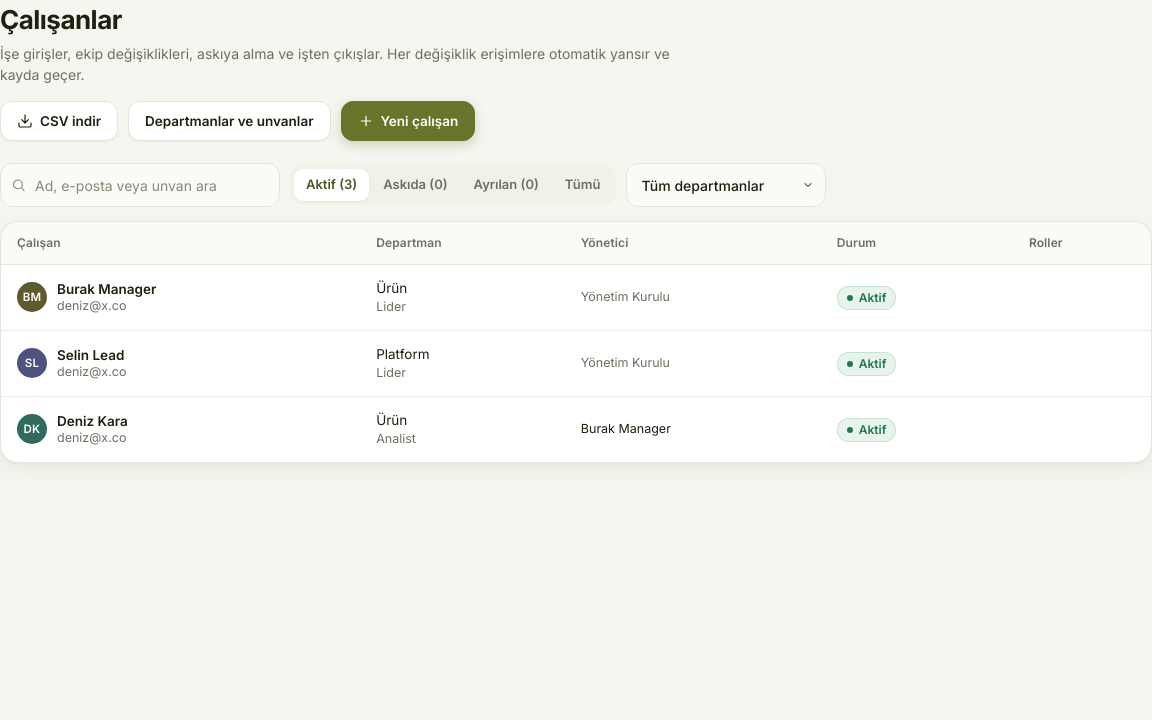
Test case: employees › creates an employee, whose activation link goes only to the Mock Email Outbox
Click the button "Yeni çalışan".
click(408, 121)  # box x1=340 y1=101 x2=475 y2=141
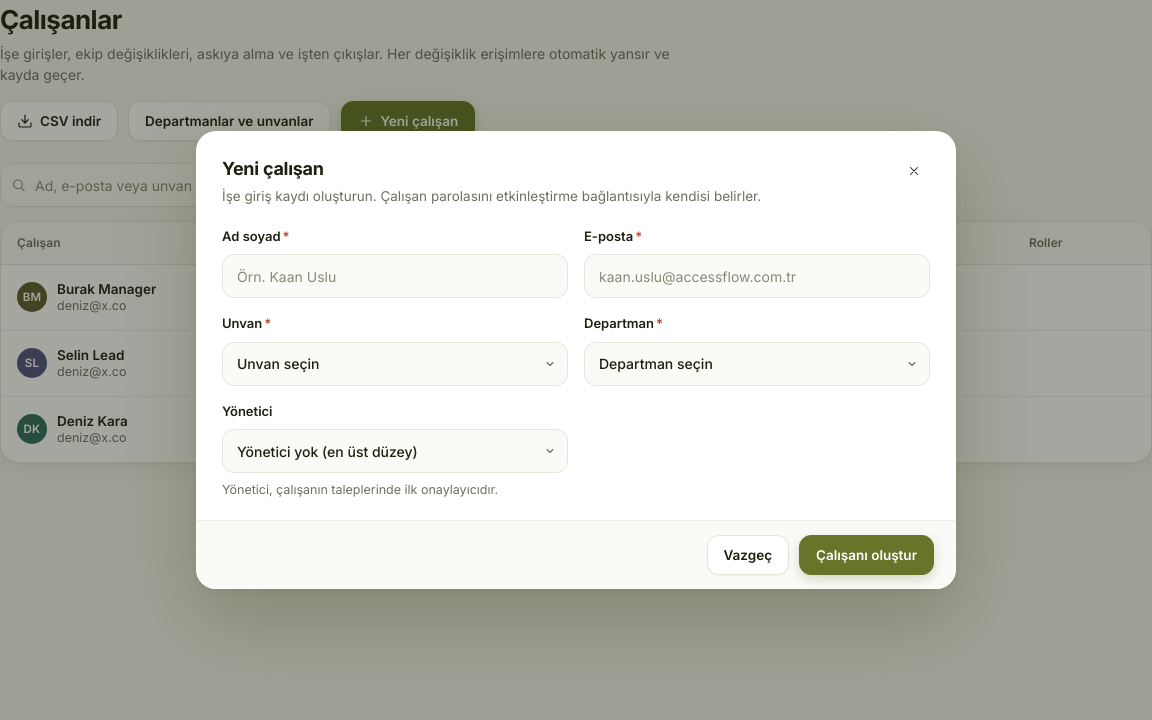
Type "Kaan Uslu" into the field labelled "Ad soyad*".
click(395, 276); type("Kaan Uslu")  # box x1=222 y1=254 x2=568 y2=298
Type "kaan@x.co" into the field labelled "E-posta*".
click(757, 276); type("kaan@x.co")  # box x1=584 y1=254 x2=930 y2=298
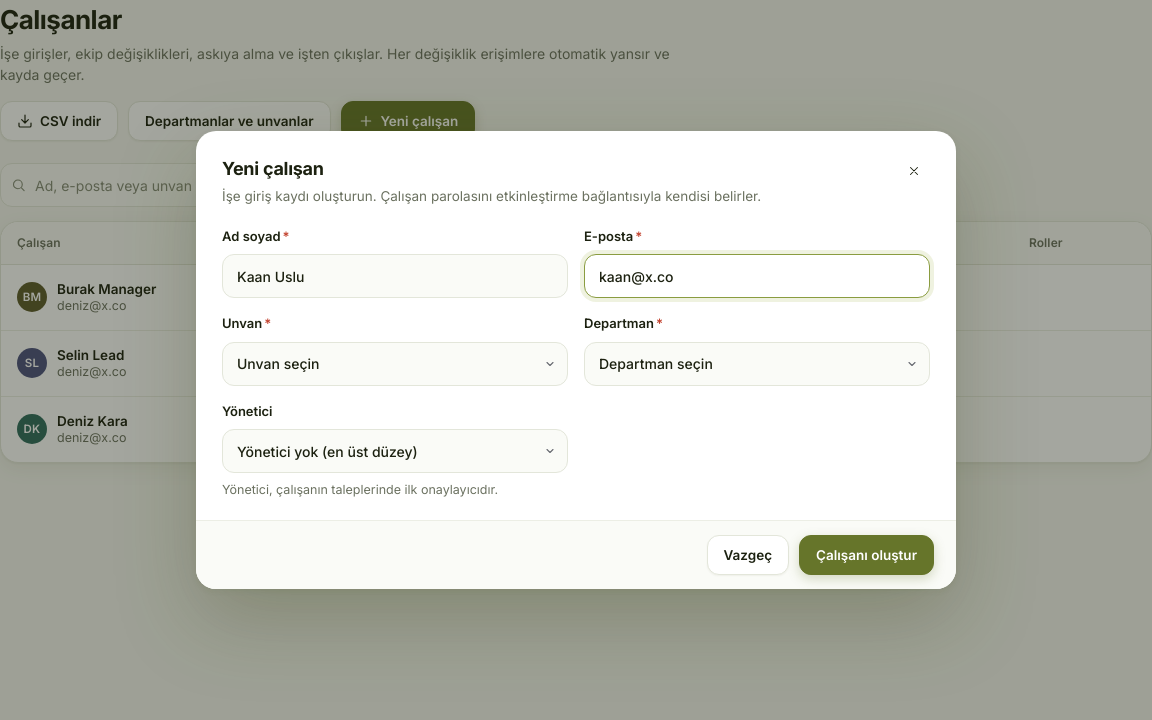
Select "Mühendis" in the dropdown labelled "Unvan*" at x=395, y=364, box x1=222 y1=342 x2=568 y2=386
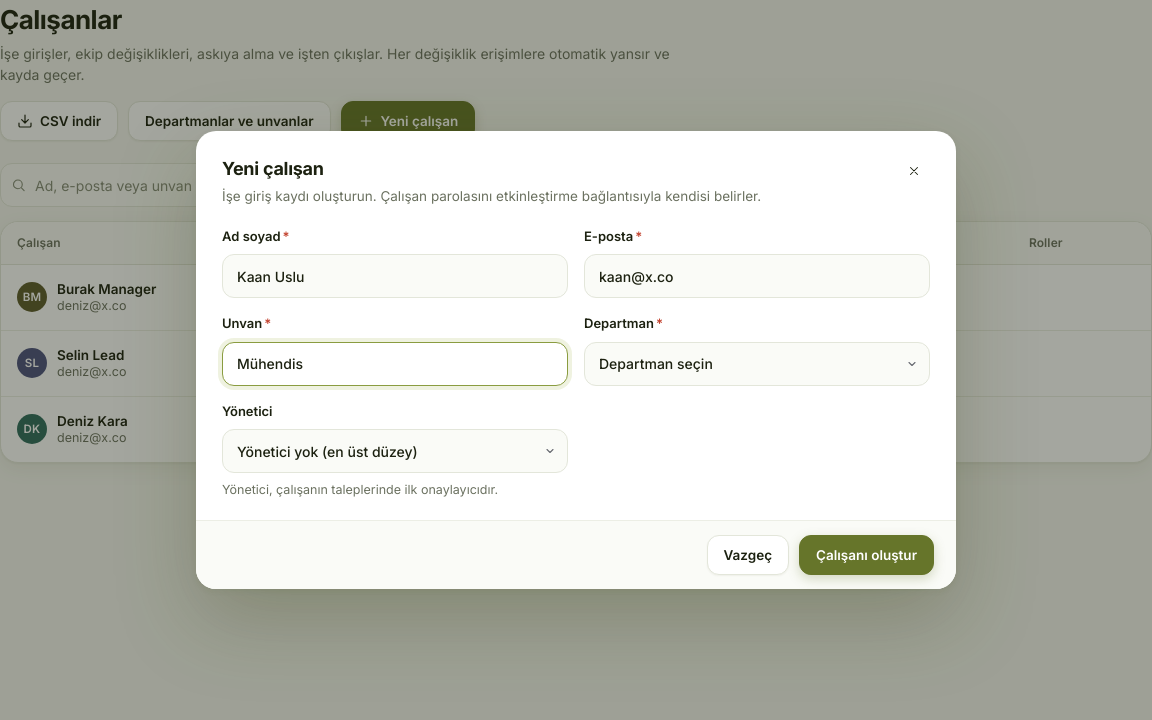
Select "Ürün" in the dropdown labelled "Departman*" at x=757, y=364, box x1=584 y1=342 x2=930 y2=386
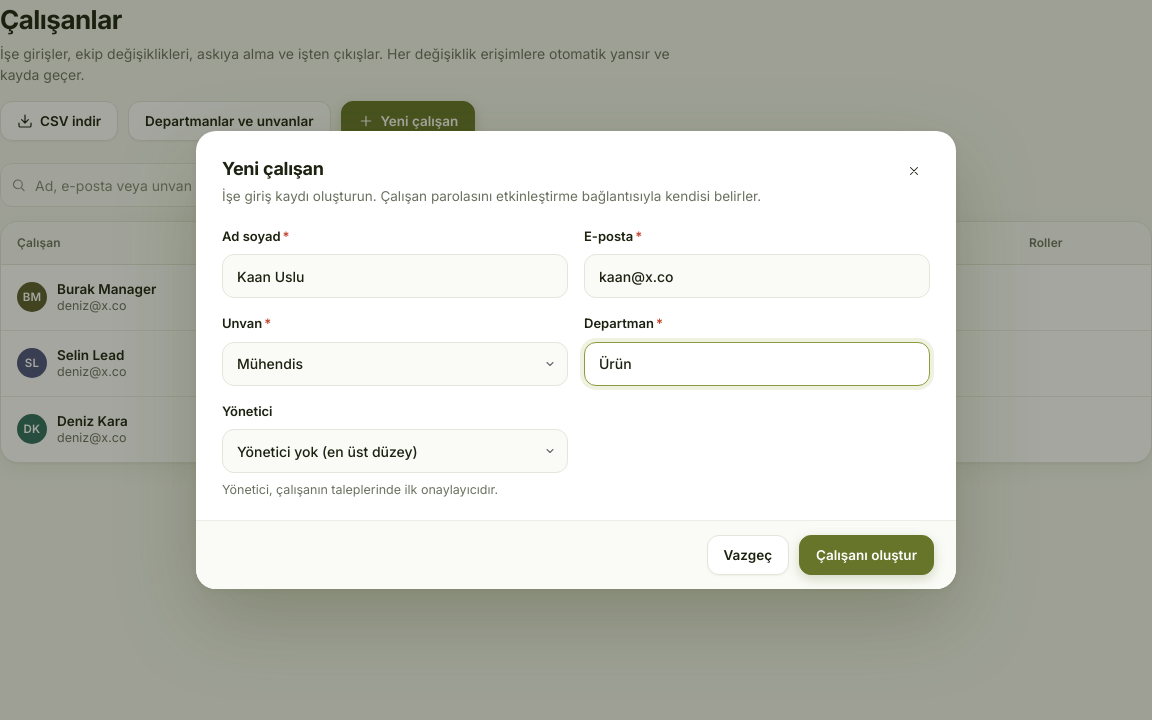
Select "Burak Manager — Lider" in the dropdown labelled "Yönetici" at x=395, y=451, box x1=222 y1=429 x2=568 y2=473
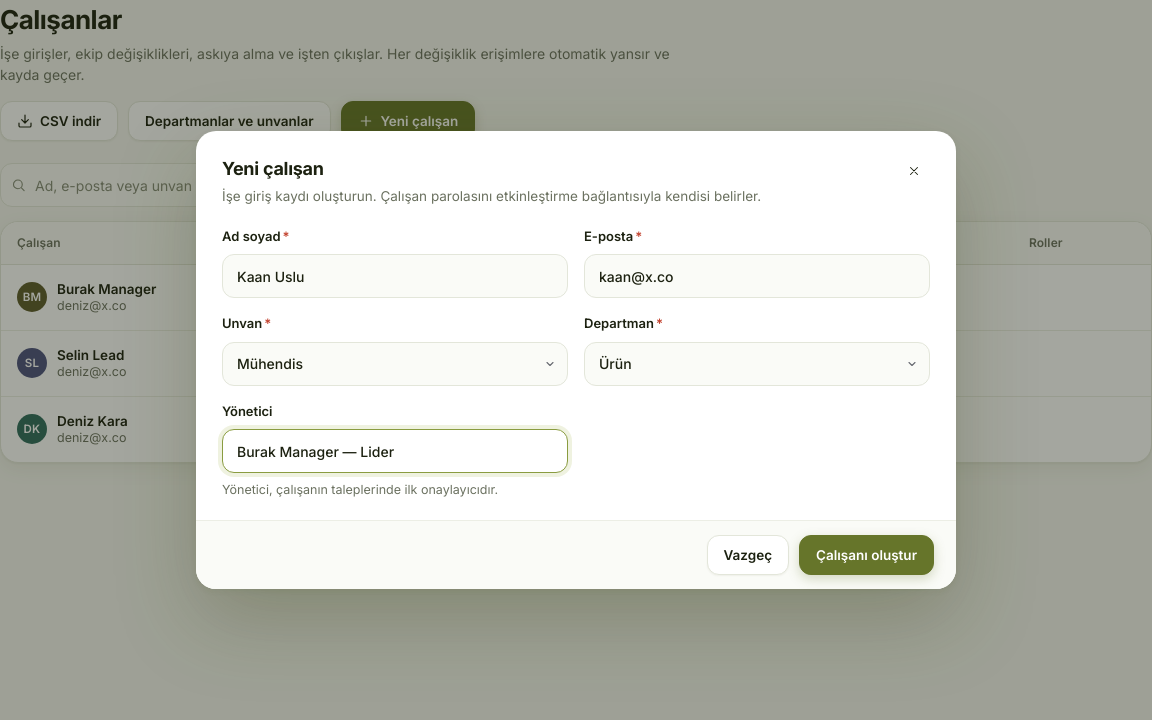
Click the button "Çalışanı oluştur".
click(866, 555)  # box x1=799 y1=535 x2=934 y2=575
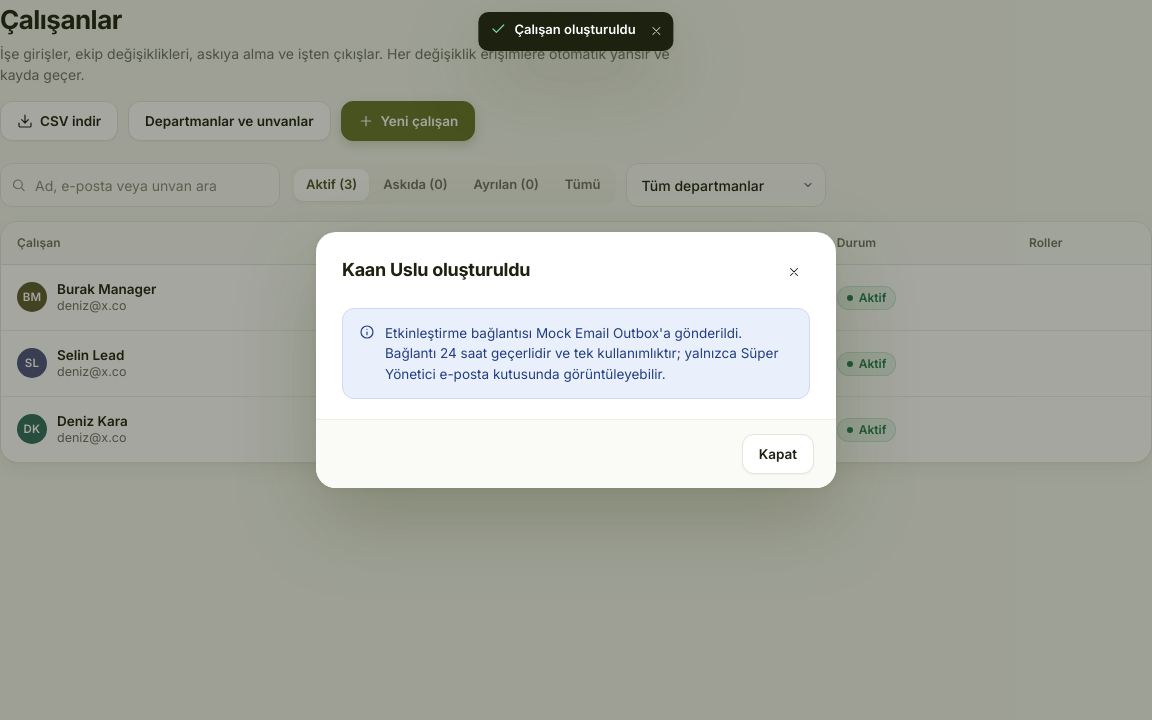
Expected: the text "Etkinleştirme bağlantısı Mock Email Outbox" is shown, x1=385 y1=325 x2=778 y2=382
